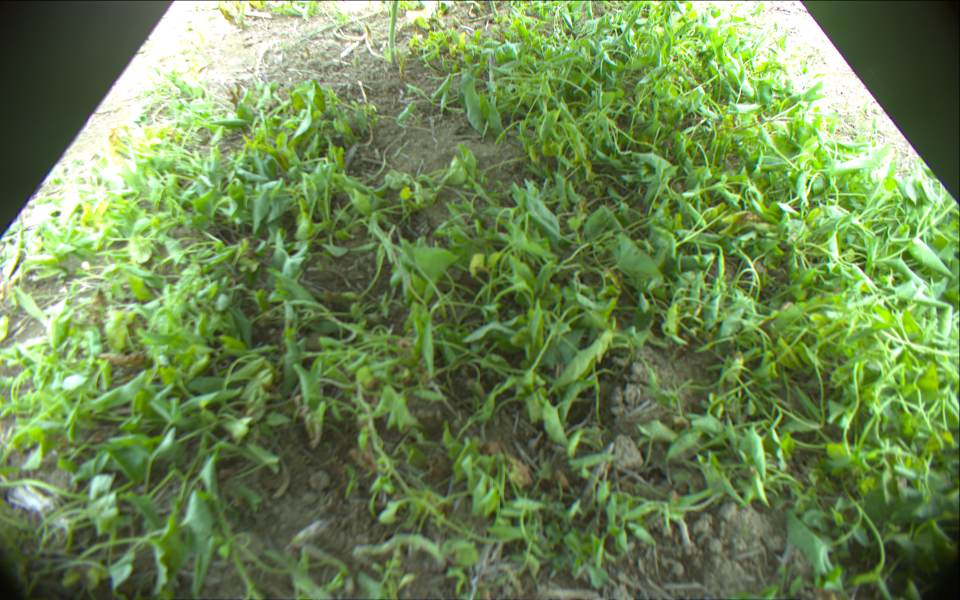aspa: (388, 1, 399, 69)
